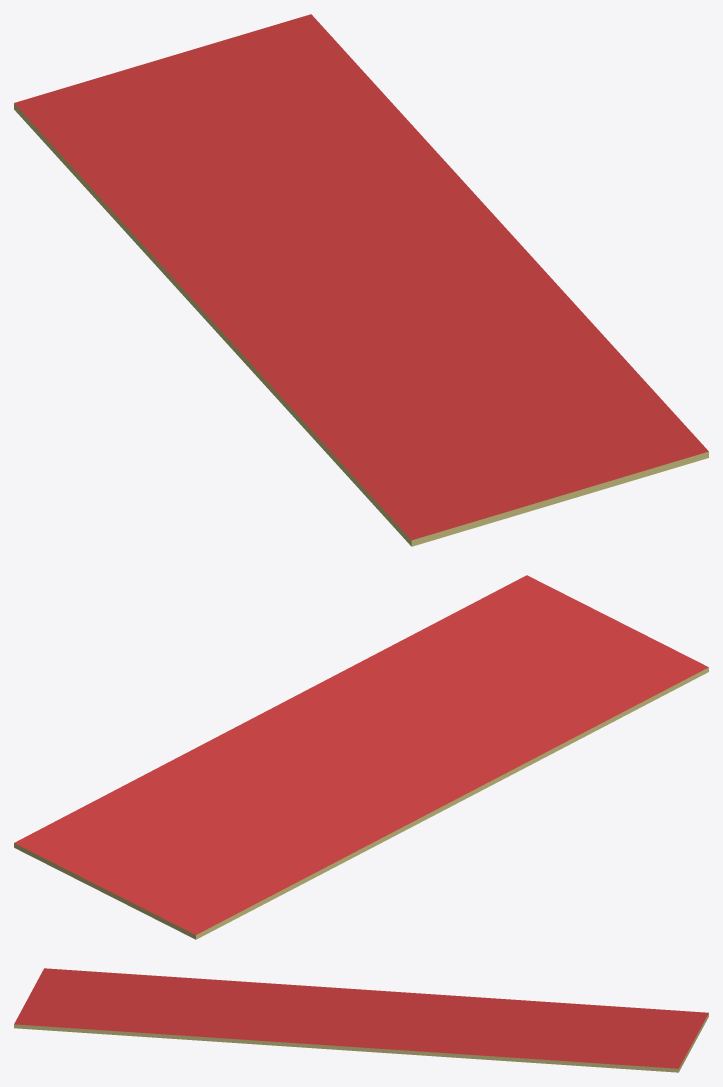
3 views of the same model, one above another, from view 1: azimuth 30°, elevation 25°; view 2: azimuth 150°, elevation 25°; view 3: azimuth 270°, elevation 25° (orthographic). The views are drawn at different scales.
Bounding box in the file's own units: 6.88 × 16.14 × 0.732.
